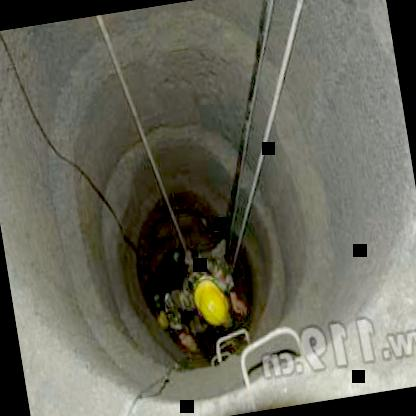helmet: (190, 277, 233, 333)
